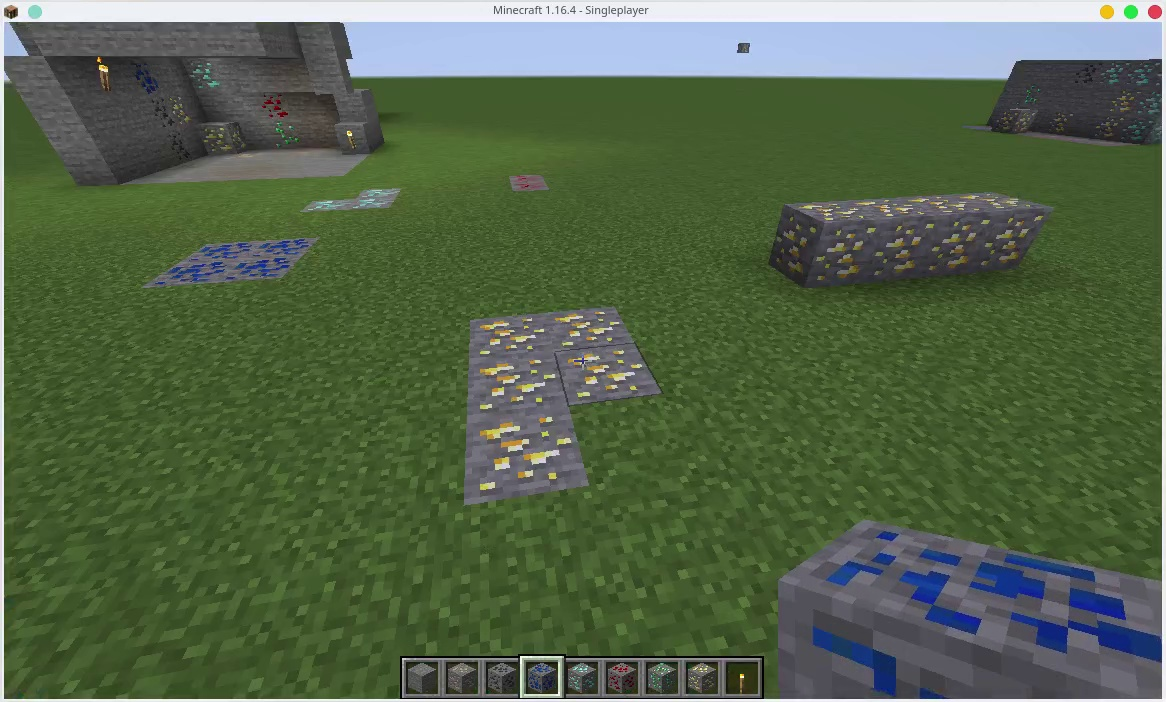gold: (453, 414, 581, 494), (776, 203, 868, 289), (563, 345, 657, 412), (464, 352, 563, 414), (870, 198, 930, 289), (928, 202, 987, 277), (982, 183, 1037, 261), (463, 309, 544, 356), (548, 310, 621, 346), (202, 120, 245, 157), (1000, 106, 1039, 133), (685, 660, 716, 692), (172, 95, 203, 127), (1091, 114, 1125, 142), (1043, 108, 1079, 133), (1110, 92, 1139, 112)
